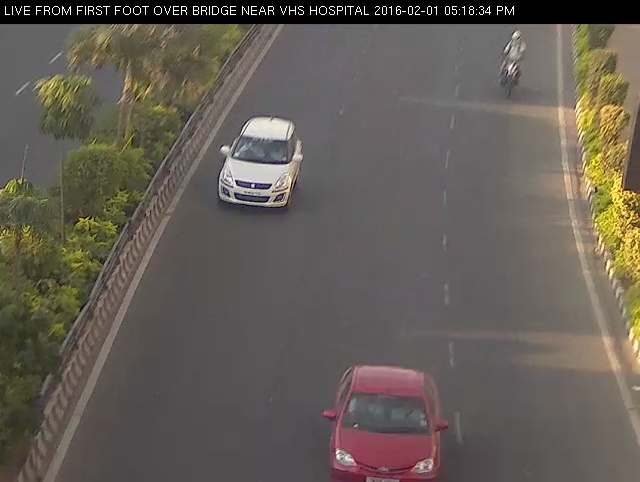Car: (318, 354, 457, 481), (211, 112, 315, 213)
Person: (488, 26, 538, 110)
